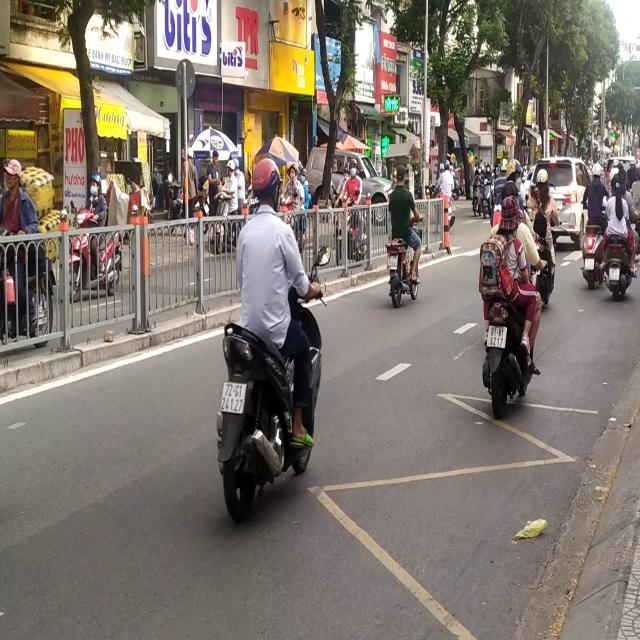bien_trang: (218, 381, 246, 416), (487, 325, 506, 347), (386, 255, 397, 270), (609, 267, 620, 280), (584, 258, 594, 270)
